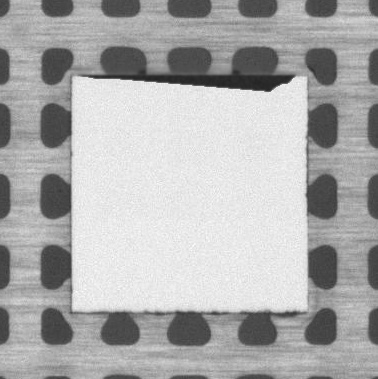DIE_BROKEN: (89, 69, 300, 94)
